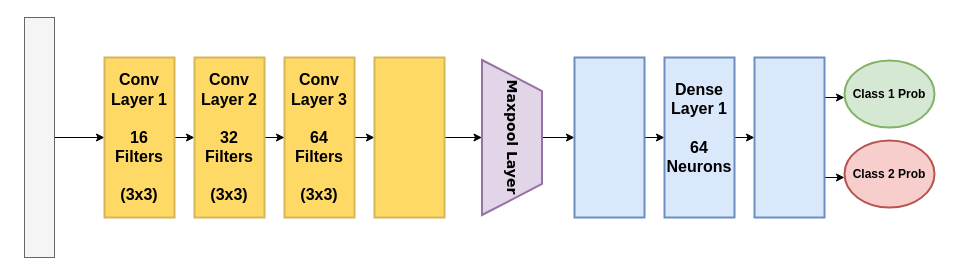
This 953x275 diagram has some shape labels left out. The centre of each missing label's shape, as x and y in pixels:
"Conv Layer 4 128 Filters (3x3)" belongs at [409,137].
"Dense Layer 1 128 Neurons" belongs at [609,137].
"Dense Layer 1 2 Neurons" belongs at [789,137].
"INPUT SIGNAL FEATURES" belongs at [39,137].
